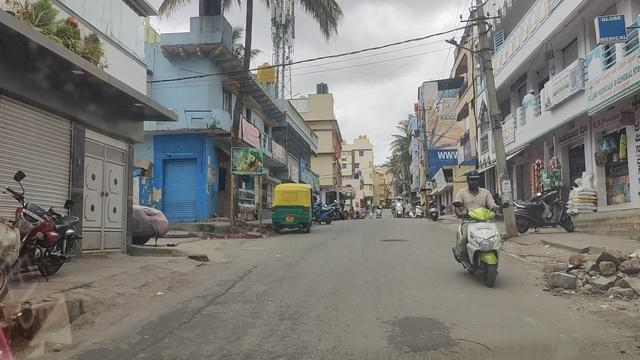LMV: (457, 170, 498, 285)
RoadDamages: (441, 333, 489, 360), (190, 299, 217, 324), (234, 266, 260, 286), (380, 234, 408, 245)
